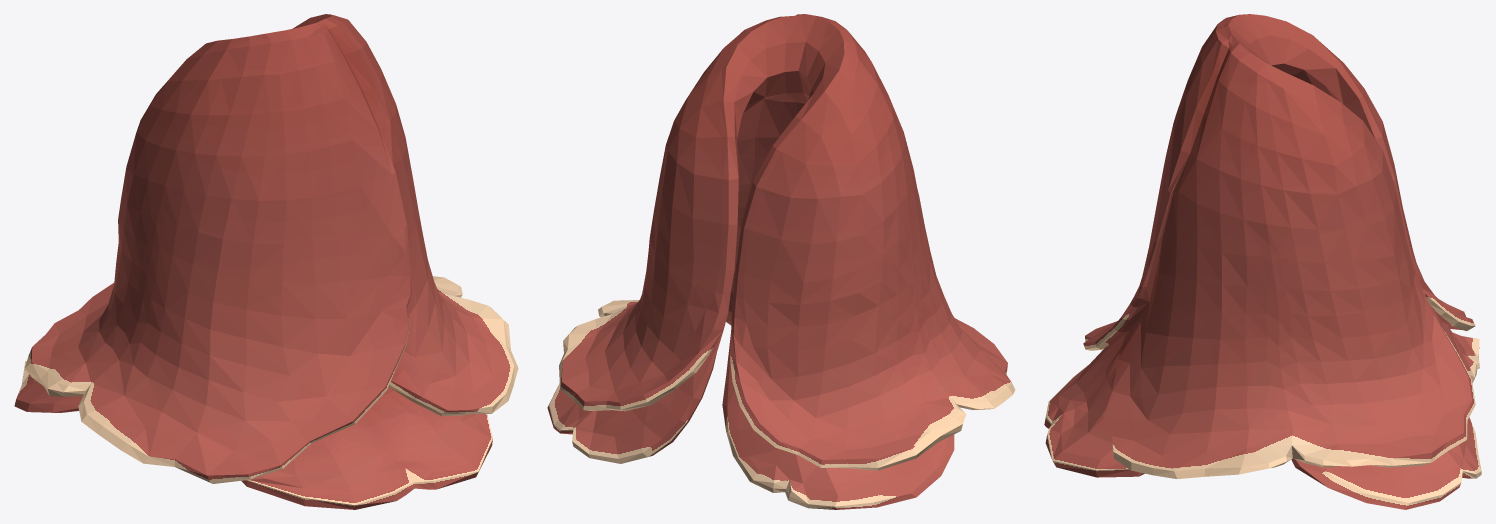
The model's file is CharSkyKid_Wing_Tulip.glb.
3 renders of one model, left to right at view 1: azimuth 30°, elevation 25°; view 2: azimuth 150°, elevation 25°; view 3: azimuth 270°, elevation 25°, orthographic. The views are drawn at different scales.
Parts seen in each view (by area): view 1: CharSkyKid_Wing_Tulip; view 2: CharSkyKid_Wing_Tulip; view 3: CharSkyKid_Wing_Tulip.
Boxes of the visible parts, x1,y1,x2,y2 form: CharSkyKid_Wing_Tulip: (14, 14, 518, 509); CharSkyKid_Wing_Tulip: (547, 14, 1015, 509); CharSkyKid_Wing_Tulip: (1044, 14, 1481, 509).
Size of the model in its own units: 7.46 by 6.98 by 6.89.
Materials: 1 (1 with a texture image).
